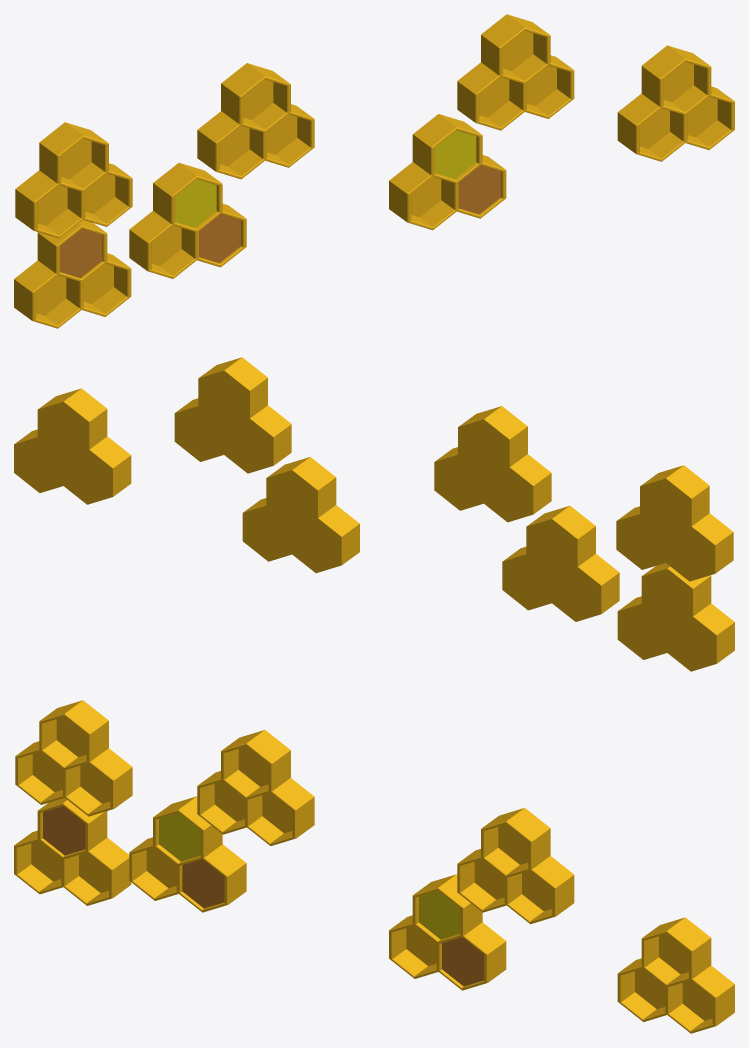
Rendered from Honey2.fbx.
3 renders of one model, top to bottom at view 1: azimuth 30°, elevation 25°; view 2: azimuth 150°, elevation 25°; view 3: azimuth 330°, elevation 25°, orthographic.
Parts seen in each view (by area): view 1: Cube.002, Cube.003, Cube.078, Cube.001, Cube.069, Cube.081, Cube.070; view 2: Cube.002, Cube.003, Cube.078, Cube.001, Cube.069, Cube.081, Cube.070; view 3: Cube.003, Cube.001, Cube.078, Cube.069, Cube.002, Cube.081, Cube.070.
Boxes of the visible parts, left/top/right/bottom form: Cube.002: left=389, top=114, right=506, bottom=230; Cube.003: left=617, top=45, right=734, bottom=161; Cube.078: left=197, top=63, right=314, bottom=179; Cube.001: left=457, top=14, right=574, bottom=130; Cube.069: left=15, top=122, right=132, bottom=238; Cube.081: left=129, top=162, right=246, bottom=278; Cube.070: left=14, top=220, right=131, bottom=328; Cube.002: left=242, top=457, right=359, bottom=573; Cube.003: left=14, top=388, right=131, bottom=504; Cube.078: left=434, top=406, right=551, bottom=522; Cube.001: left=174, top=357, right=291, bottom=473; Cube.069: left=616, top=465, right=733, bottom=581; Cube.081: left=502, top=505, right=619, bottom=621; Cube.070: left=617, top=563, right=734, bottom=671; Cube.003: left=617, top=917, right=734, bottom=1033; Cube.001: left=457, top=808, right=574, bottom=924; Cube.078: left=197, top=730, right=314, bottom=845; Cube.069: left=15, top=700, right=132, bottom=816; Cube.002: left=389, top=874, right=506, bottom=990; Cube.081: left=129, top=796, right=246, bottom=912; Cube.070: left=14, top=798, right=131, bottom=905.
Bounding box in the file's own units: 3647 × 1001 × 167.
